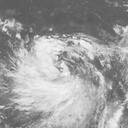cyclone: (14, 36, 100, 108)
